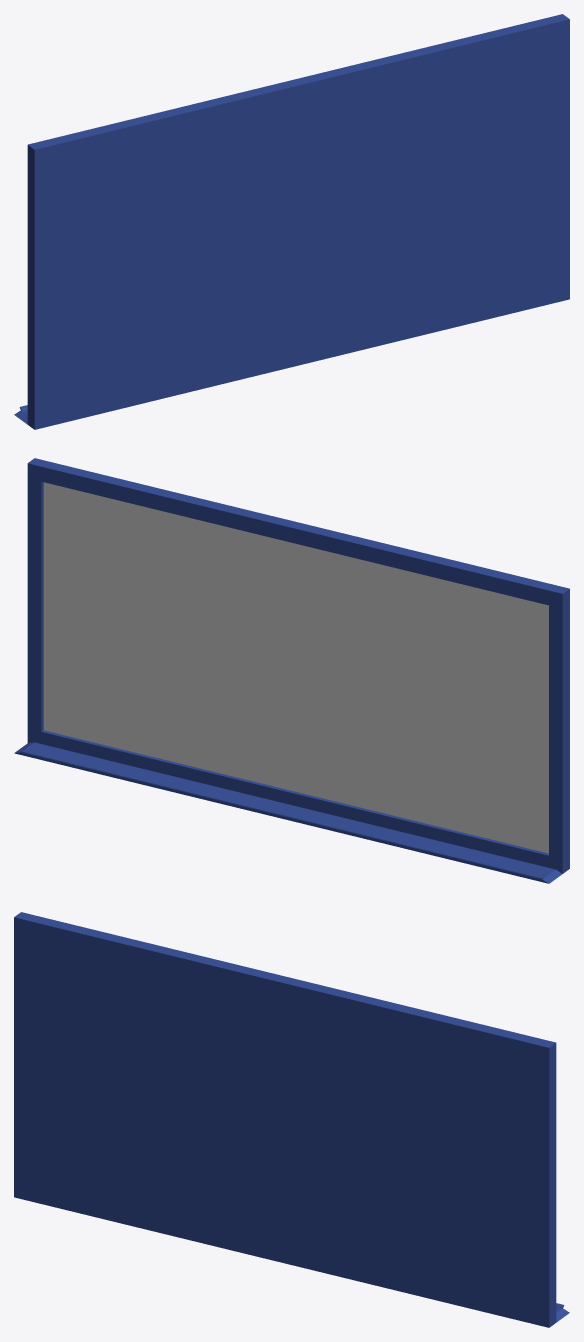
The model's file is Pizarra.fbx.
3 renders of one model, top to bottom at view 1: azimuth 30°, elevation 25°; view 2: azimuth 150°, elevation 25°; view 3: azimuth 330°, elevation 25°, orthographic.
Visible parts, largest first — view 1: Cube; view 2: Cube; view 3: Cube.
Boxes of the visible parts, box(x1,y1,x2,y2) form: Cube: box(14, 14, 569, 429); Cube: box(14, 458, 569, 883); Cube: box(14, 912, 569, 1327).
Size of the model in its own units: 300 by 150 by 21.47.
